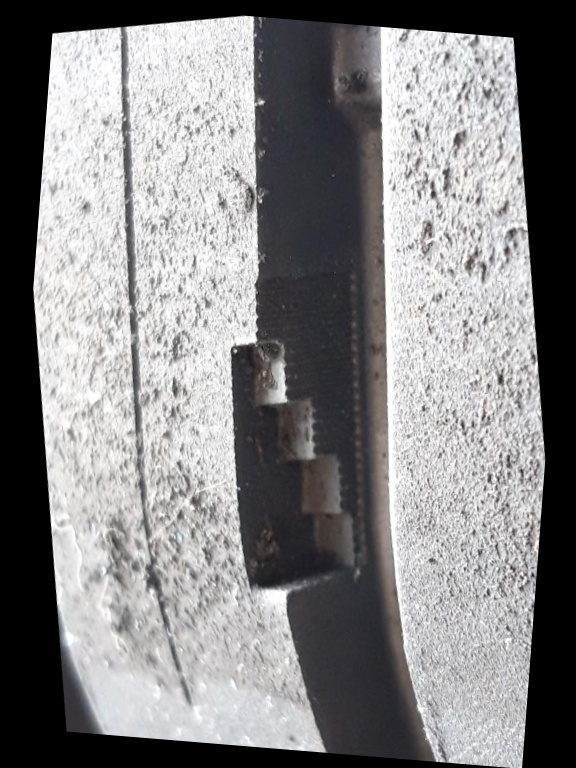temoin:95: (176, 245, 417, 628)
